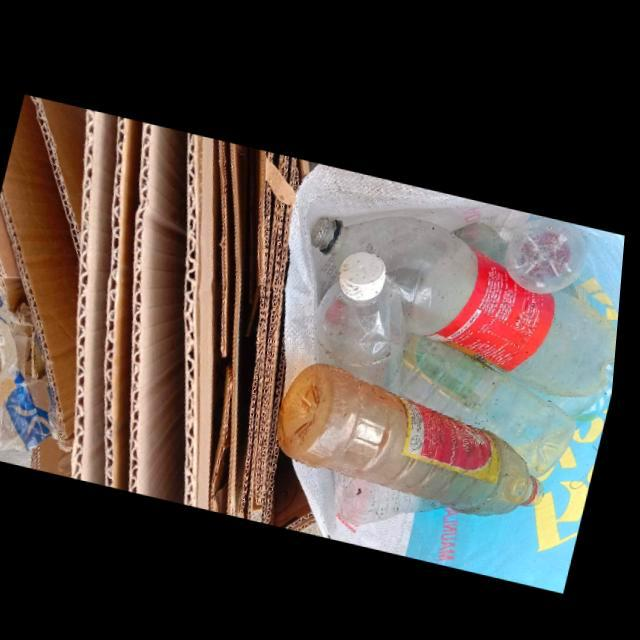cardboard: (2, 93, 84, 449), (248, 145, 318, 519), (137, 119, 194, 501), (80, 108, 122, 483), (111, 113, 145, 488), (189, 129, 221, 506), (0, 202, 30, 314)
plastic_bottle: (314, 210, 622, 388), (284, 357, 552, 508), (405, 328, 582, 469), (319, 245, 411, 388), (508, 208, 591, 285), (342, 466, 456, 519)
